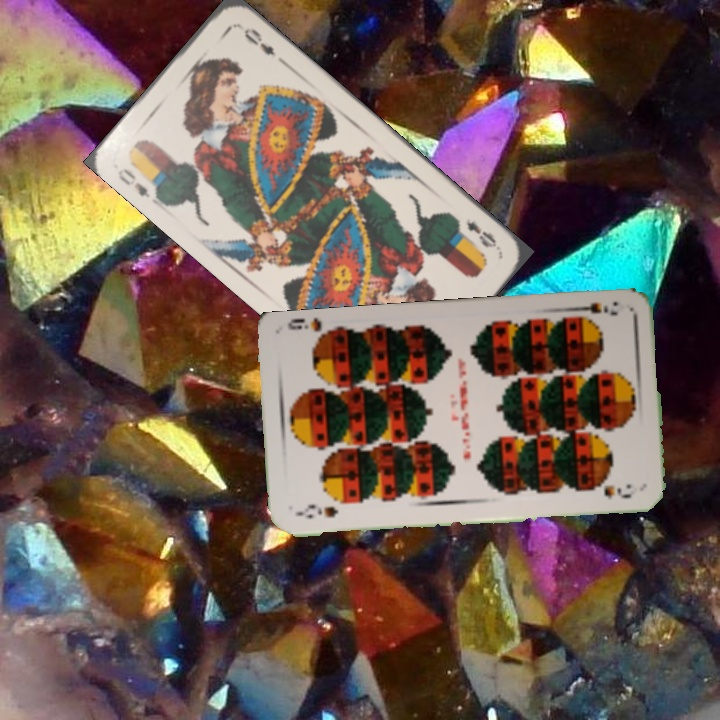EO: (451, 214, 503, 253), (113, 164, 153, 201)
S9: (569, 298, 621, 324), (293, 502, 340, 521)
